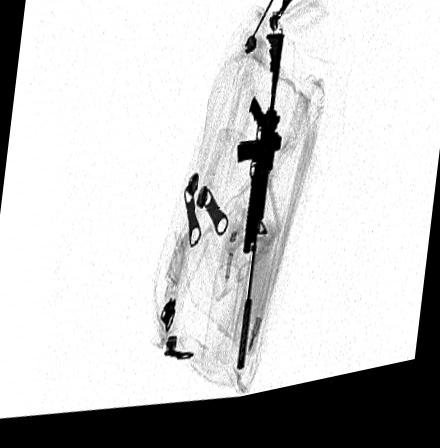Gun: (234, 42, 286, 385)
